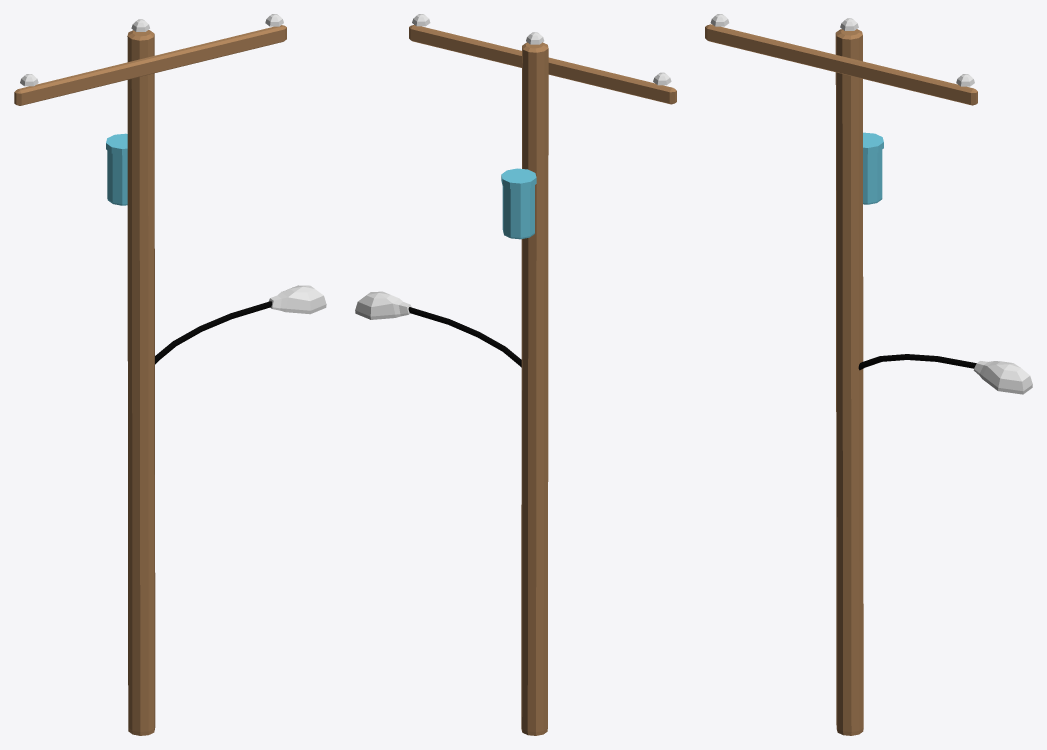
The model's file is polelight.fbx.
3 views of the same model, side by side, from view 1: azimuth 30°, elevation 25°; view 2: azimuth 150°, elevation 25°; view 3: azimuth 330°, elevation 25° (orthographic).
Parts seen in each view (by area): view 1: Pole with light; view 2: Pole with light; view 3: Pole with light.
Part boxes in pixels (box(x1,y1,x2,y2)): Pole with light: box(14, 14, 326, 735); Pole with light: box(355, 14, 676, 735); Pole with light: box(705, 14, 1032, 735).
Bounding box in the file's own units: 1.05 × 2.26 × 0.228.
